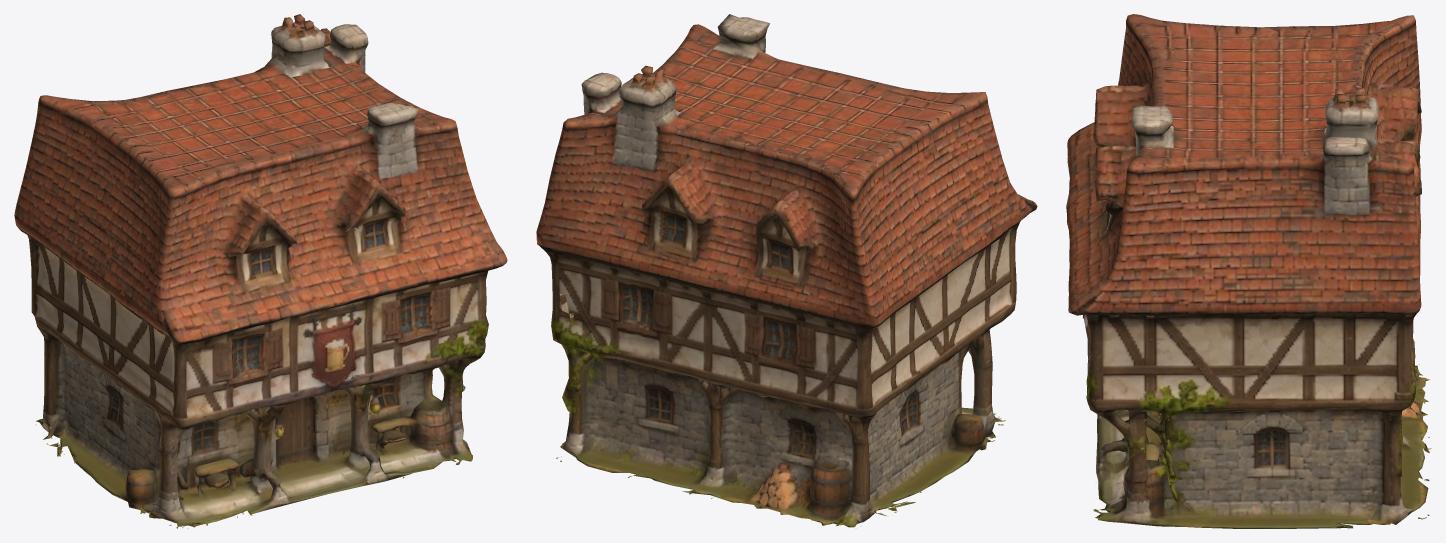
3 views of the same model, side by side, from view 1: azimuth 30°, elevation 25°; view 2: azimuth 150°, elevation 25°; view 3: azimuth 270°, elevation 25° (orthographic). The views are drawn at different scales.
Parts seen in each view (by area): view 1: tripo_node_f916c1a8-c3a3-4147-be86-4f5e389310c1; view 2: tripo_node_f916c1a8-c3a3-4147-be86-4f5e389310c1; view 3: tripo_node_f916c1a8-c3a3-4147-be86-4f5e389310c1.
Boxes of the visible parts, x1,y1,x2,y2 form: tripo_node_f916c1a8-c3a3-4147-be86-4f5e389310c1: (14, 14, 507, 528); tripo_node_f916c1a8-c3a3-4147-be86-4f5e389310c1: (536, 14, 1037, 527); tripo_node_f916c1a8-c3a3-4147-be86-4f5e389310c1: (1066, 14, 1431, 528).
Bounding box in the file's own units: 0.9362 × 0.984 × 0.816.
Materials: 1 (1 with a texture image).
